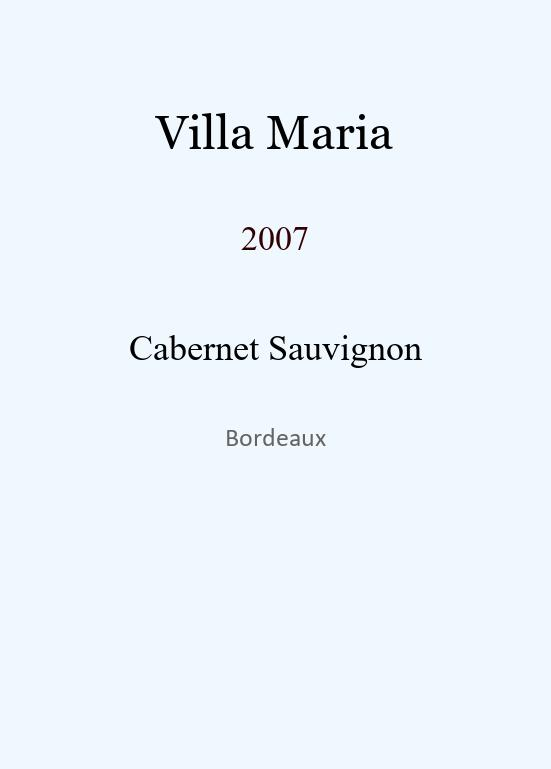brand: (156, 104, 394, 140)
region: (225, 426, 326, 444)
variety: (129, 327, 422, 360)
vintage: (241, 219, 309, 242)
